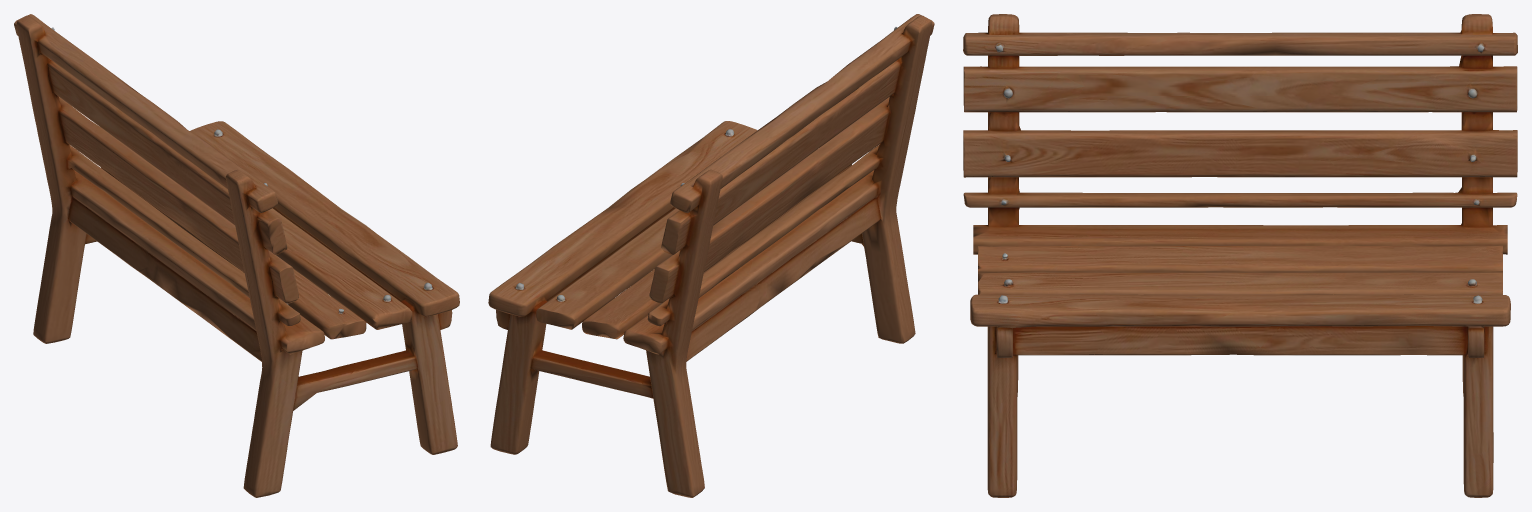
Rendered from bench.glb.
The picture shows the model from 3 angles, left to right: view 1: azimuth 30°, elevation 25°; view 2: azimuth 150°, elevation 25°; view 3: azimuth 270°, elevation 25°; orthographic projection. The views are drawn at different scales.
Visible parts, largest first — view 1: tripo_node_3a56625b-36b8-4059-a082-14bc125ed344_0; view 2: tripo_node_3a56625b-36b8-4059-a082-14bc125ed344_0; view 3: tripo_node_3a56625b-36b8-4059-a082-14bc125ed344_0.
Boxes of the visible parts, x1=… form: tripo_node_3a56625b-36b8-4059-a082-14bc125ed344_0: x1=14, y1=14, x2=459, y2=497; tripo_node_3a56625b-36b8-4059-a082-14bc125ed344_0: x1=488, y1=14, x2=934, y2=497; tripo_node_3a56625b-36b8-4059-a082-14bc125ed344_0: x1=963, y1=14, x2=1517, y2=497.
Size of the model in its own units: 0.5201 by 0.7312 by 0.9999.
1 material, 1 textured.
